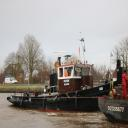tugboat: (7, 51, 124, 117)
